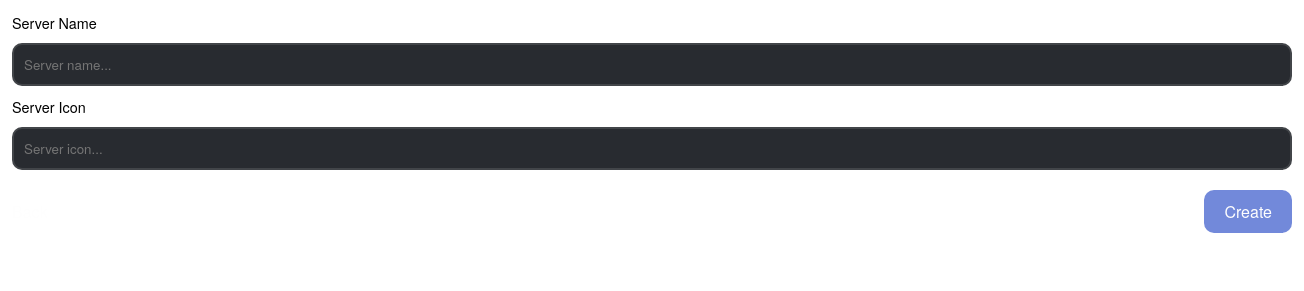
Test: CreateServerForm › throws error if API rejects
In the field with placeholder "Server name...": point(652, 64) 12,43 -> 1292,86, type "raccoon-guild"
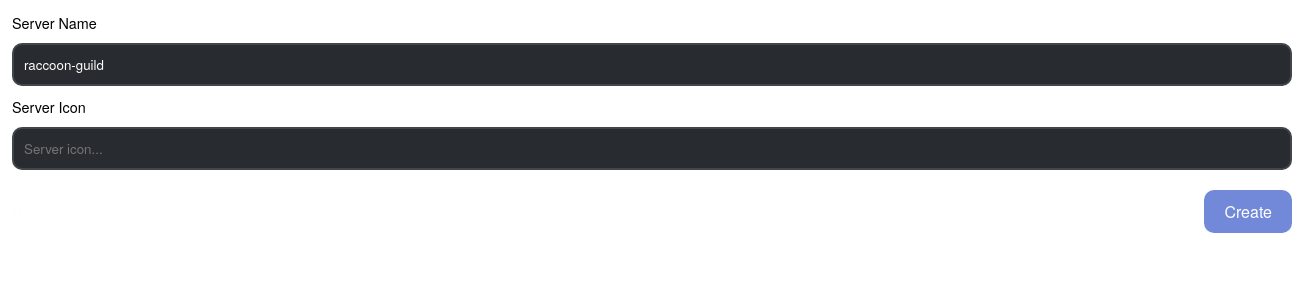
Click the button "Create": point(1248, 212) 1204,190 -> 1292,233
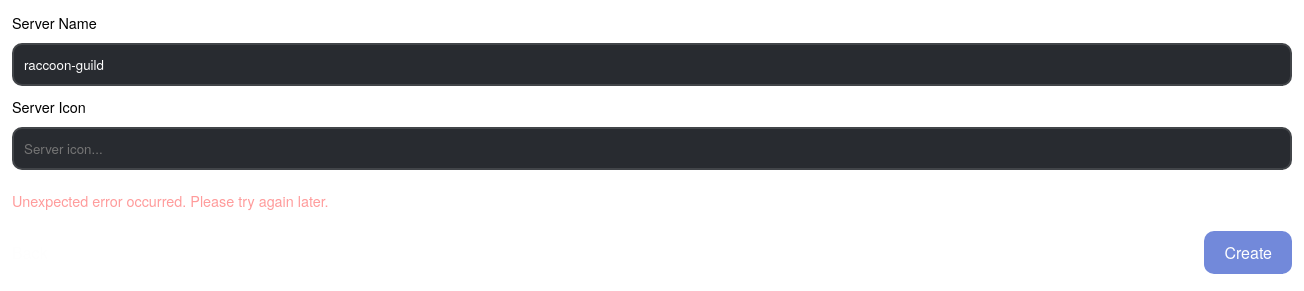
Check: the message shows "error", box 12,190 -> 328,211
